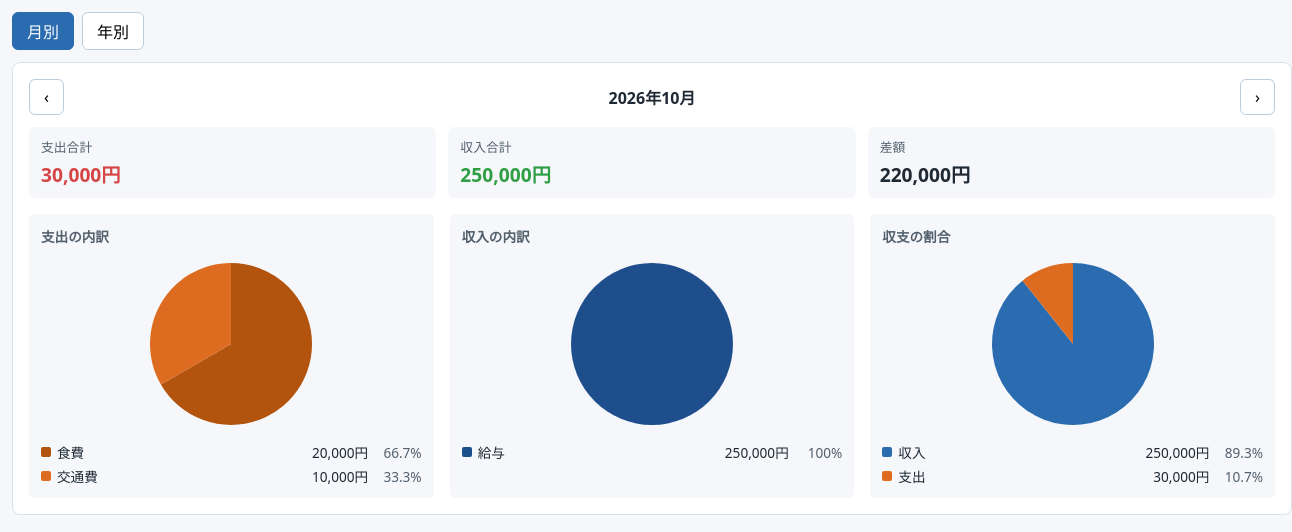
Test: SummaryView › shows an empty chart message for a month without transactions
This screenshot has width=1292, height=532.
Click the button named "次の月" at (1258, 97), box [1240, 79, 1275, 115]
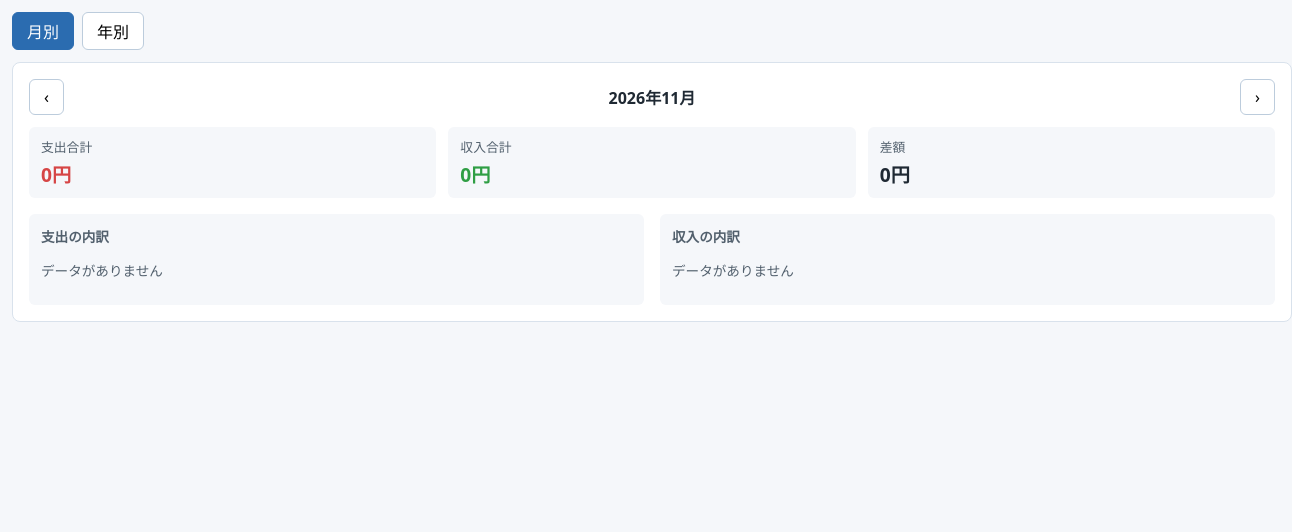
Check: the text with test id "period" reads "2026年11月", box [608, 87, 695, 109]
Check: the element showing "支出の内訳 データがありません" is shown, box [29, 214, 644, 305]
Check: the element showing "収入の内訳 データがありません" is shown, box [660, 214, 1275, 305]
